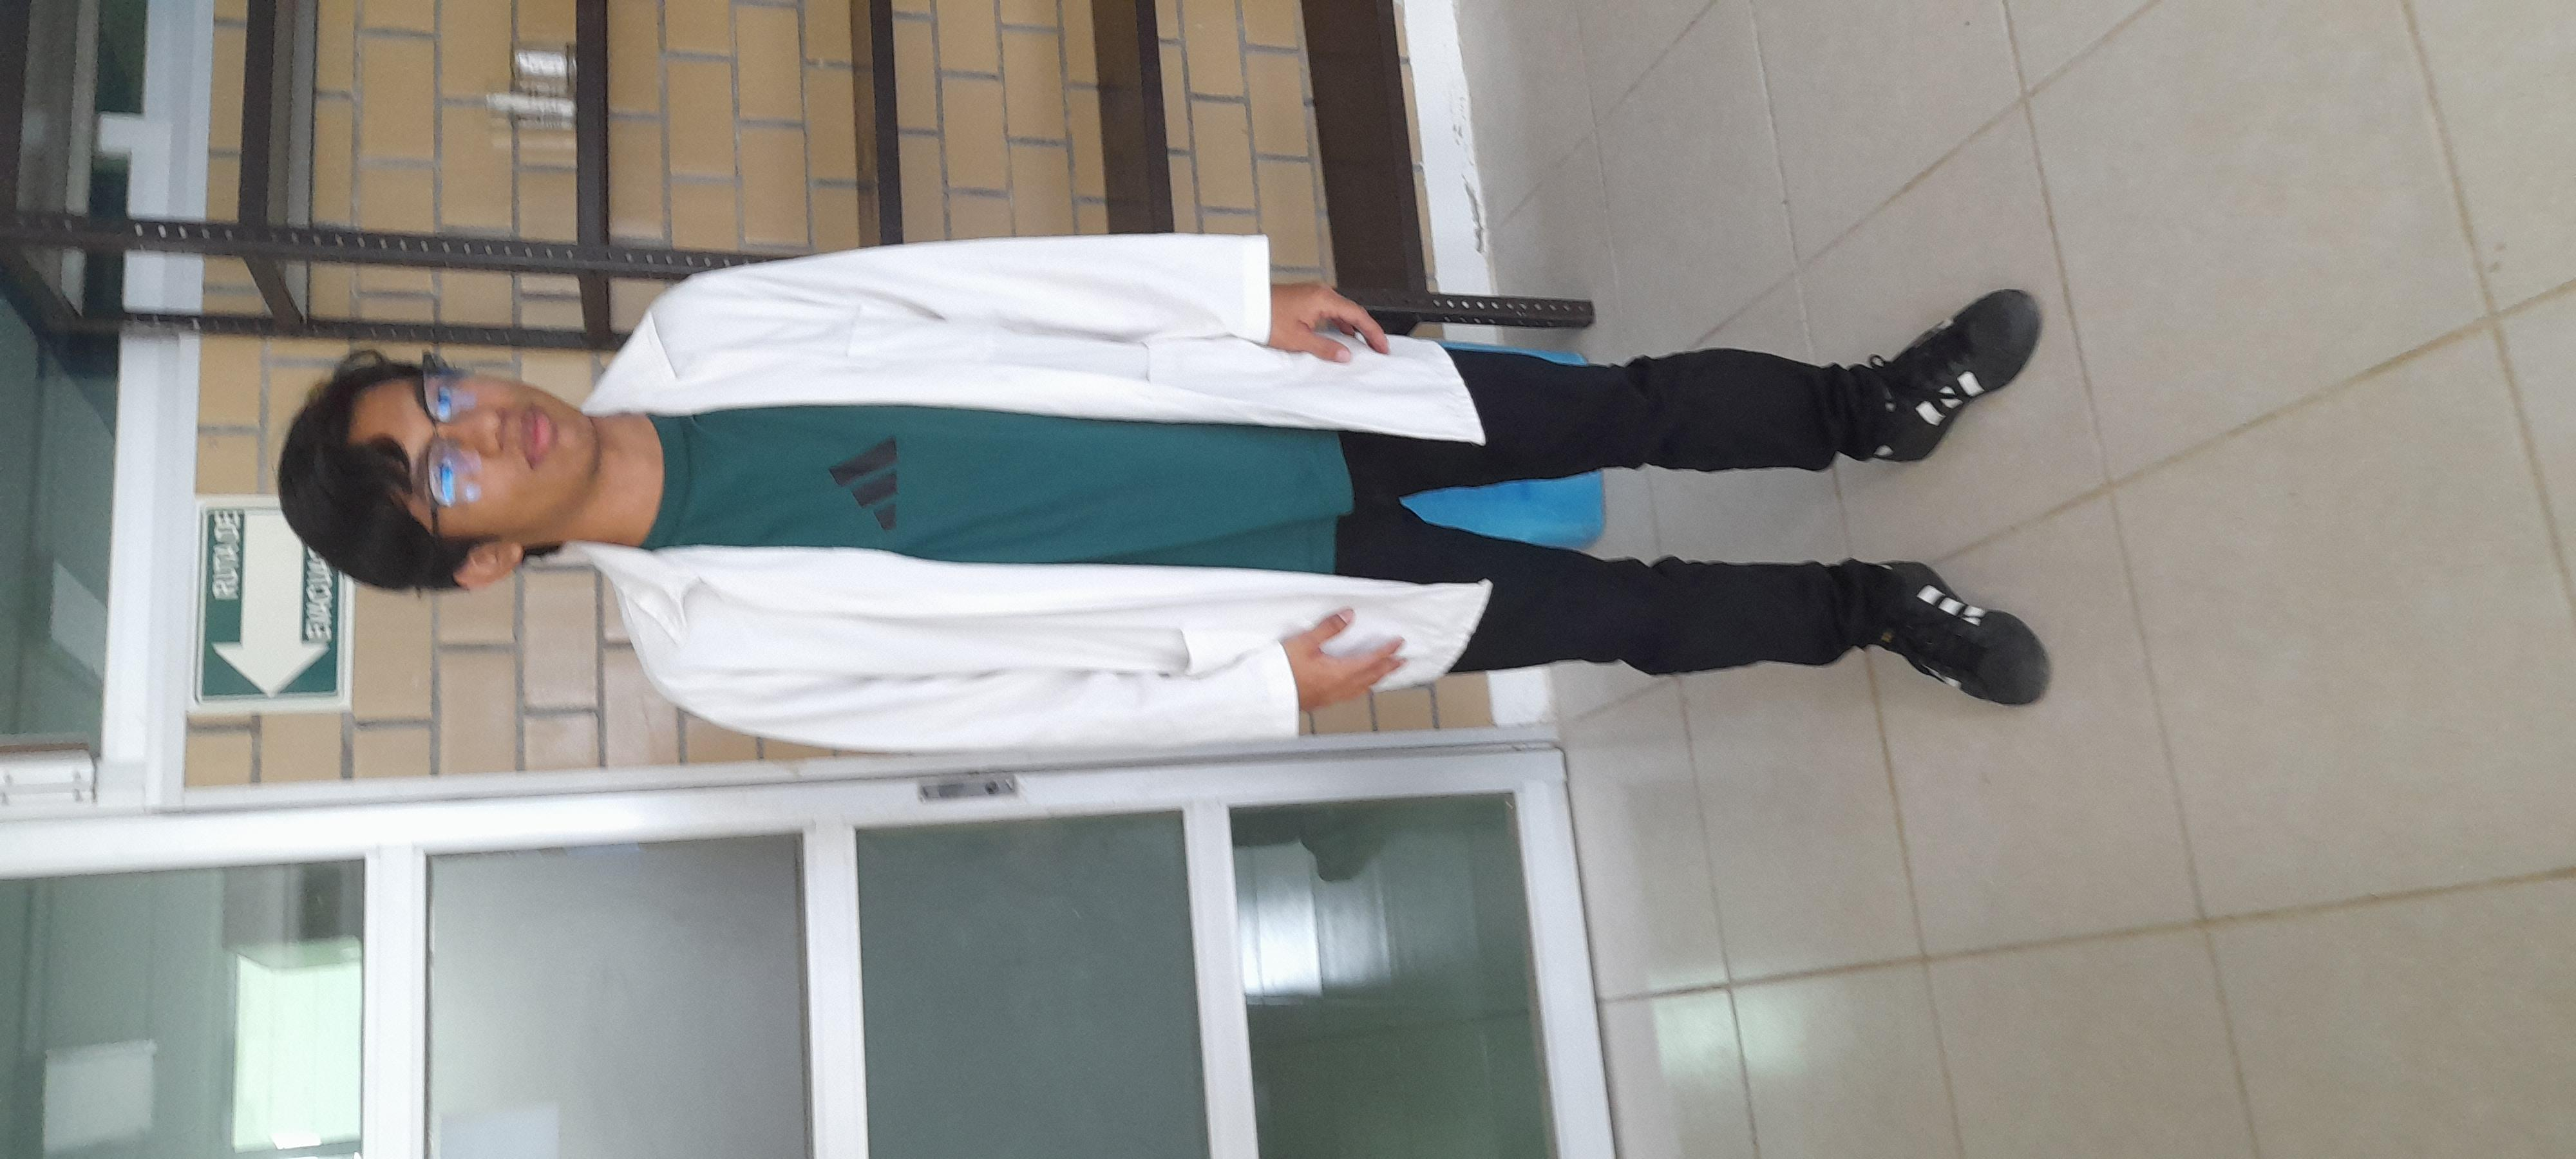Bata-Incorrecta: (716, 107, 2205, 980)
